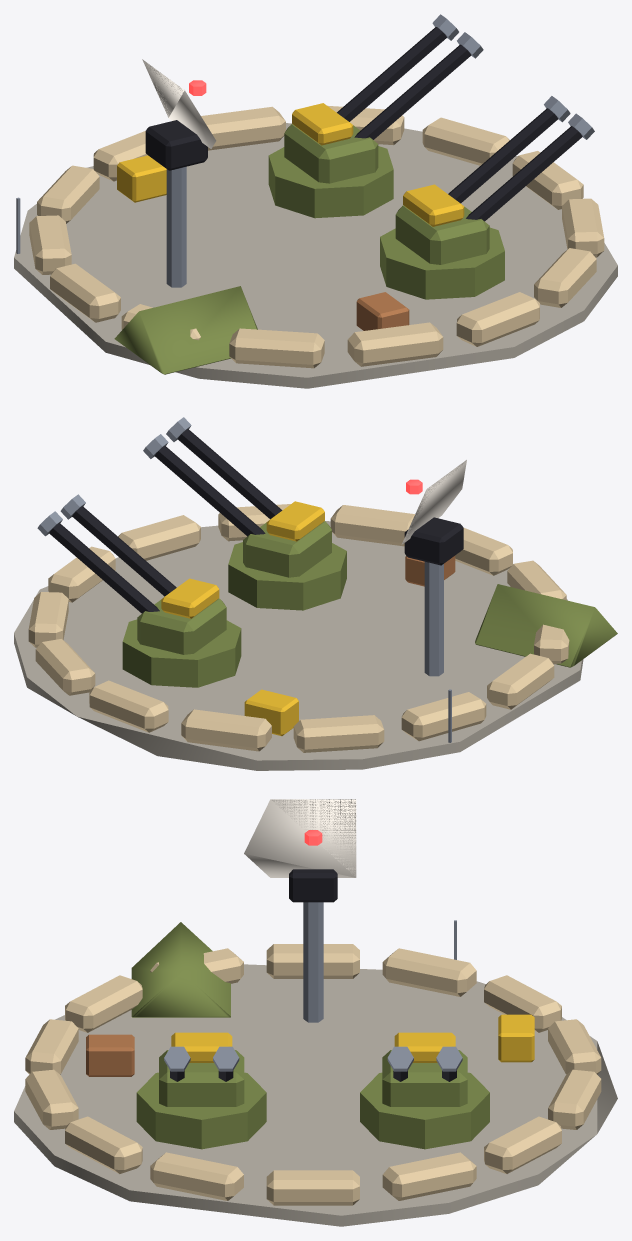
File: aa_battery.glb
3 views of the same model, one above another, from view 1: azimuth 30°, elevation 25°; view 2: azimuth 150°, elevation 25°; view 3: azimuth 270°, elevation 25° (orthographic). The views are drawn at different scales.
Visible parts, largest first — view 1: aa_battery; view 2: aa_battery; view 3: aa_battery.
Boxes of the visible parts, x1,y1,x2,y2 form: aa_battery: (14,14,617,388); aa_battery: (14,417,617,770); aa_battery: (14,799,617,1226).
Bounding box in the file's own units: 29.36 × 12.19 × 29.74.
Materials: 1 (1 with a texture image).
